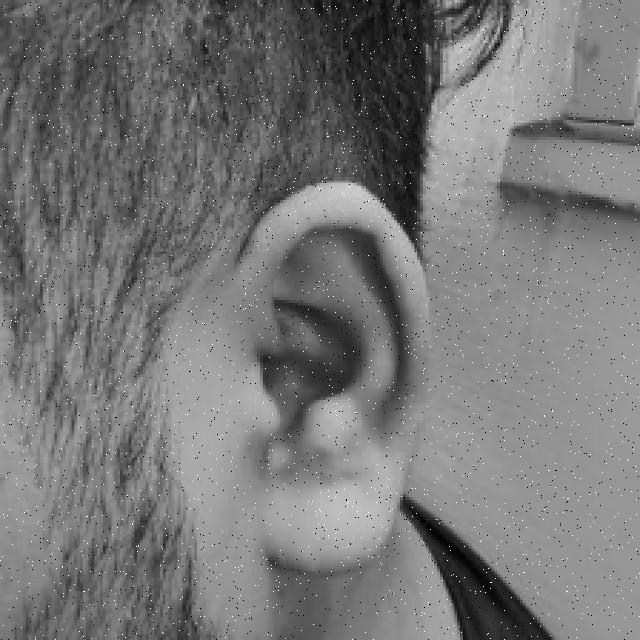ear: (240, 180, 420, 571)
